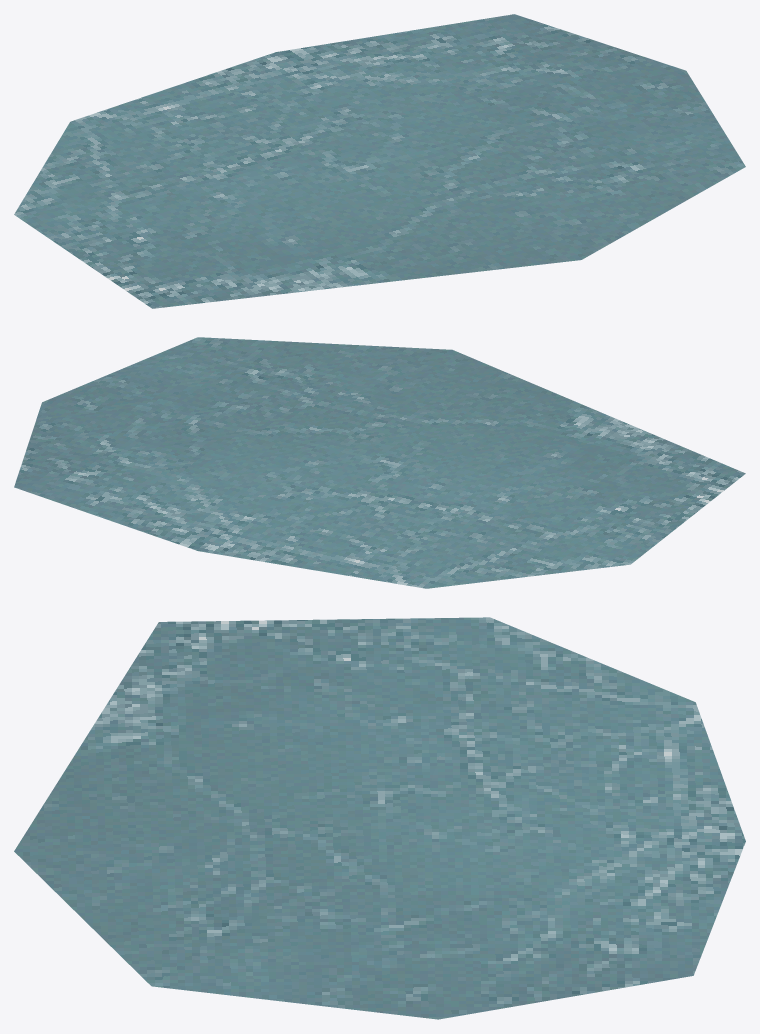
File: water-puddle.glb
3 views of the same model, one above another, from view 1: azimuth 30°, elevation 25°; view 2: azimuth 150°, elevation 25°; view 3: azimuth 270°, elevation 25° (orthographic). The views are drawn at different scales.
Visible parts, largest first — view 1: water-puddle; view 2: water-puddle; view 3: water-puddle.
Part boxes in pixels (x1,y1,x2,y2): water-puddle: [14, 14, 745, 308]; water-puddle: [14, 337, 745, 588]; water-puddle: [14, 617, 745, 1019].
Size of the model in its own units: 1.17 by 0.0086 by 0.8998.
Materials: 1 (1 with a texture image).
